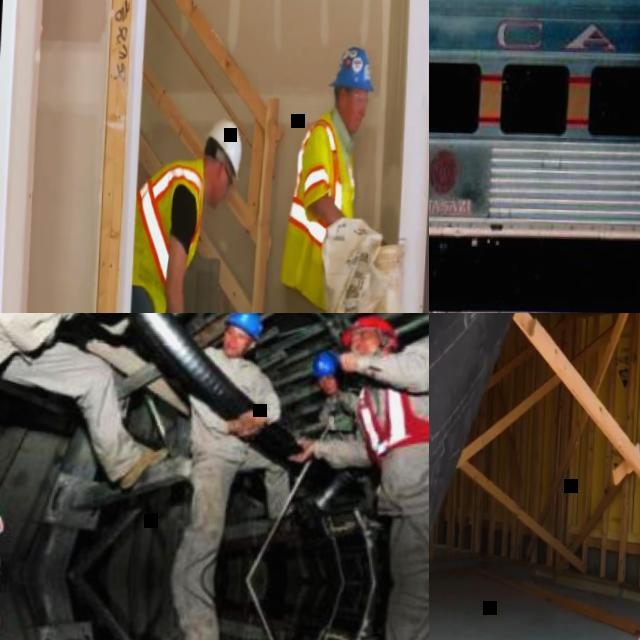helmet: (205, 116, 244, 182), (330, 44, 378, 92), (343, 314, 402, 346), (223, 313, 267, 341), (315, 353, 339, 379)
no_mask: (208, 165, 225, 208), (343, 103, 364, 133), (357, 340, 389, 358), (225, 340, 243, 356), (328, 379, 342, 394)
no_vest: (194, 353, 260, 433), (324, 395, 367, 432)
person: (240, 39, 388, 313), (0, 313, 187, 496), (183, 313, 309, 541), (286, 313, 429, 499), (125, 112, 245, 313), (316, 350, 378, 438)
vest: (282, 114, 360, 282), (132, 154, 204, 313), (357, 377, 429, 458)
